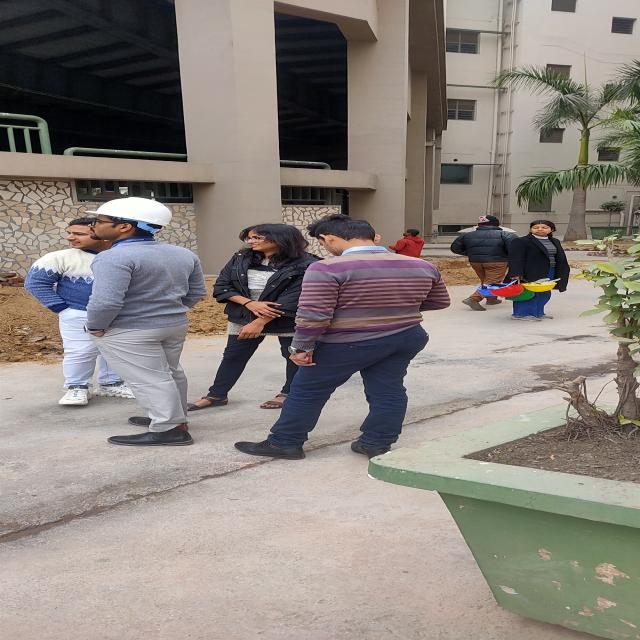no jacket: (86, 195, 208, 446)
unsafe: (237, 214, 449, 459), (187, 220, 316, 412), (23, 221, 96, 410), (503, 220, 570, 322), (451, 212, 514, 312), (390, 228, 429, 255)
